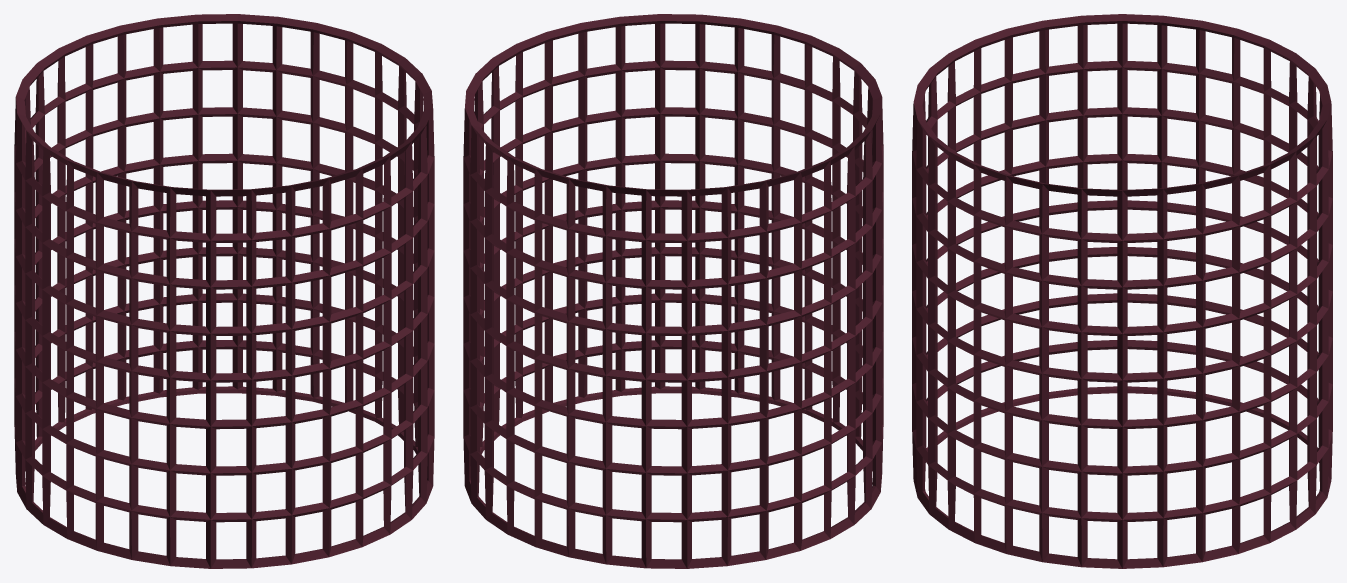
Rendered from gateway.gltf.
The picture shows the model from 3 angles, left to right: view 1: azimuth 30°, elevation 25°; view 2: azimuth 150°, elevation 25°; view 3: azimuth 270°, elevation 25°; orthographic projection.
Parts seen in each view (by area): view 1: Cylinder; view 2: Cylinder; view 3: Cylinder.
Boxes of the visible parts, x1,y1,x2,y2 form: Cylinder: [14, 14, 434, 568]; Cylinder: [463, 14, 883, 568]; Cylinder: [912, 14, 1332, 568].
Bounding box in the file's own units: 8.21 × 8.15 × 8.21.
